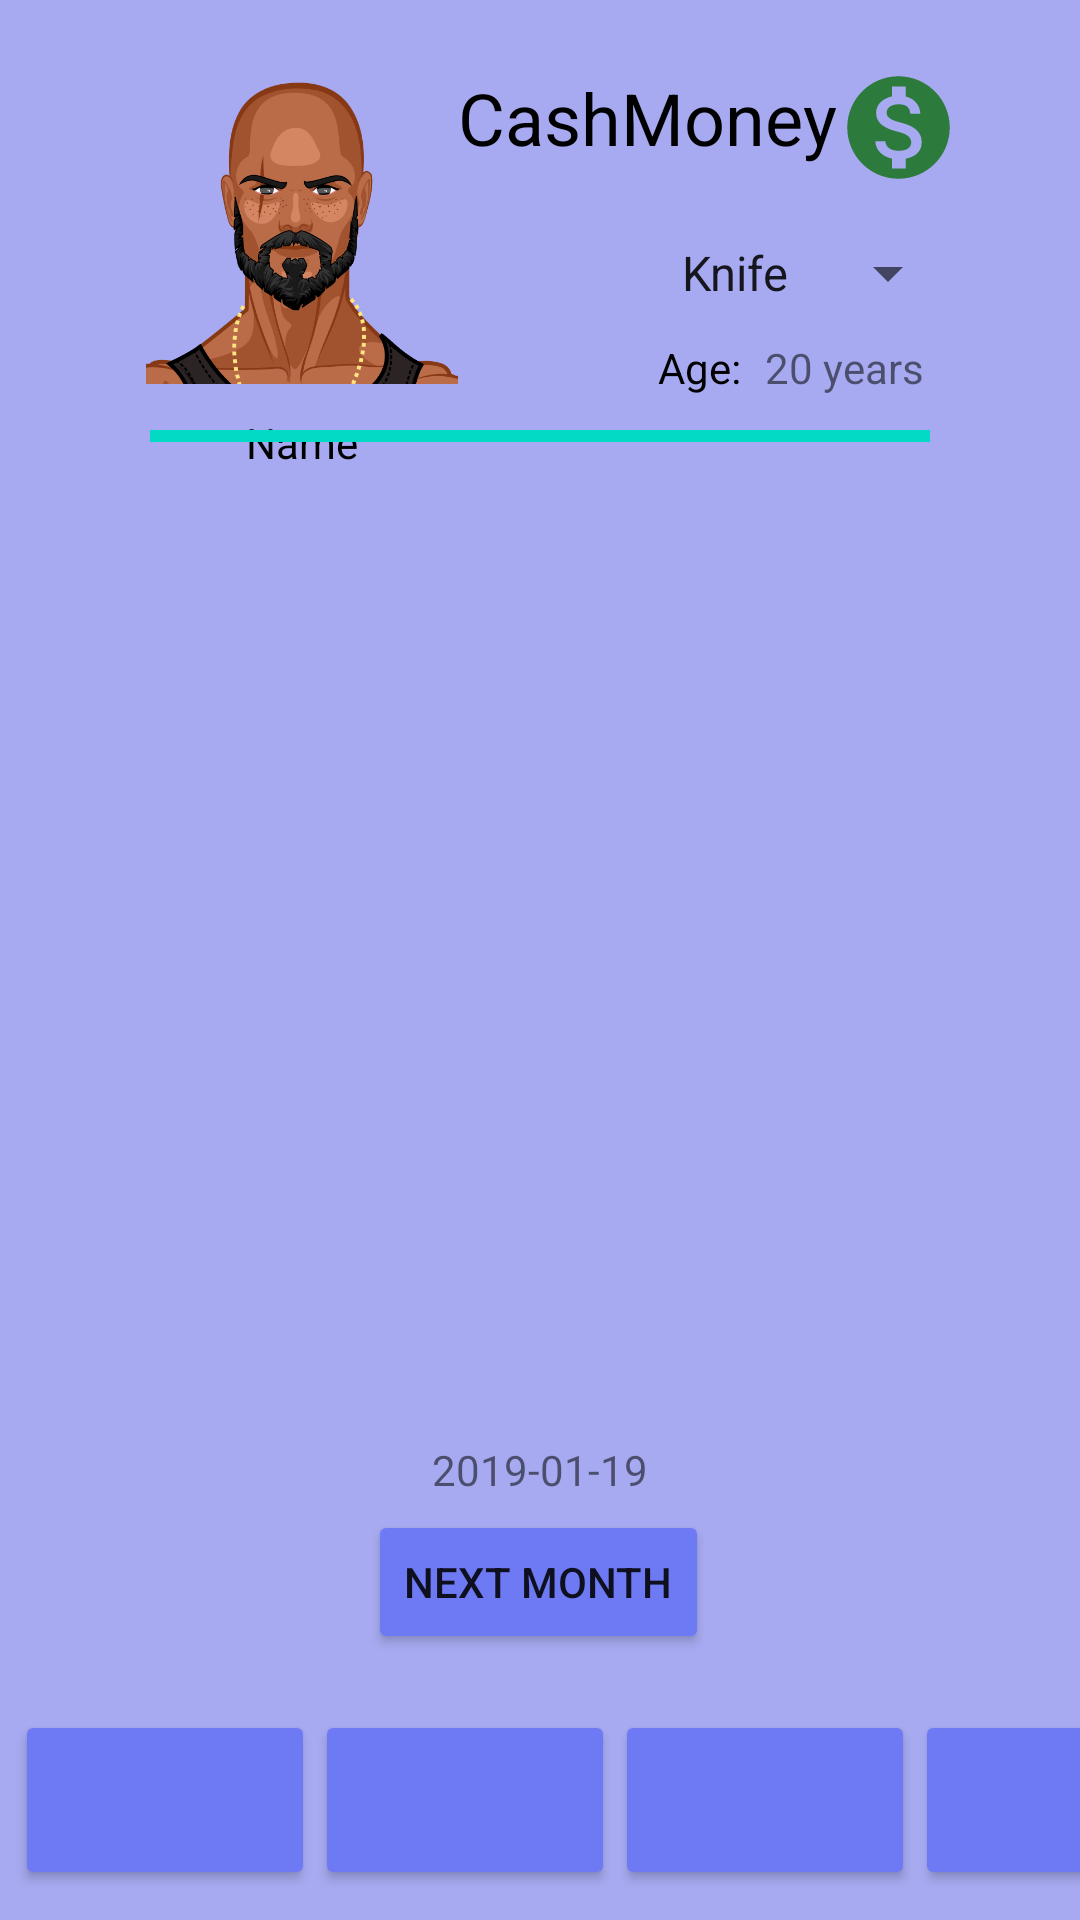

Icons on this 1080 × 1920 Android screen, each with its box as (x1, y1, x2, y2):
finalavatar: (146, 82, 502, 384)
